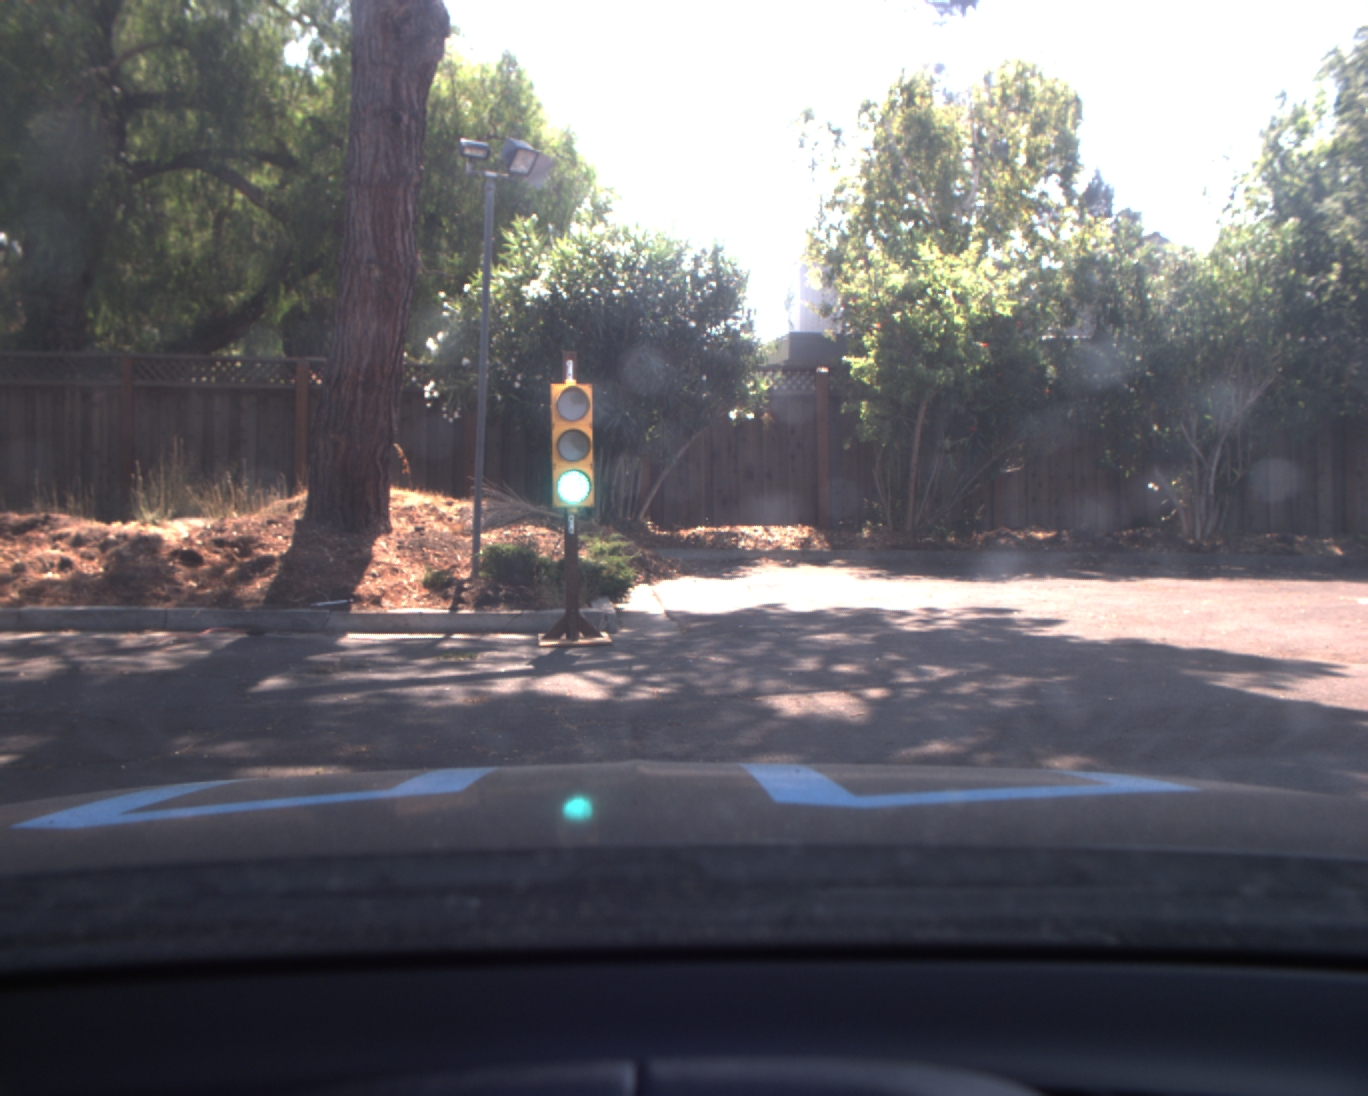green: (547, 379, 596, 511)
